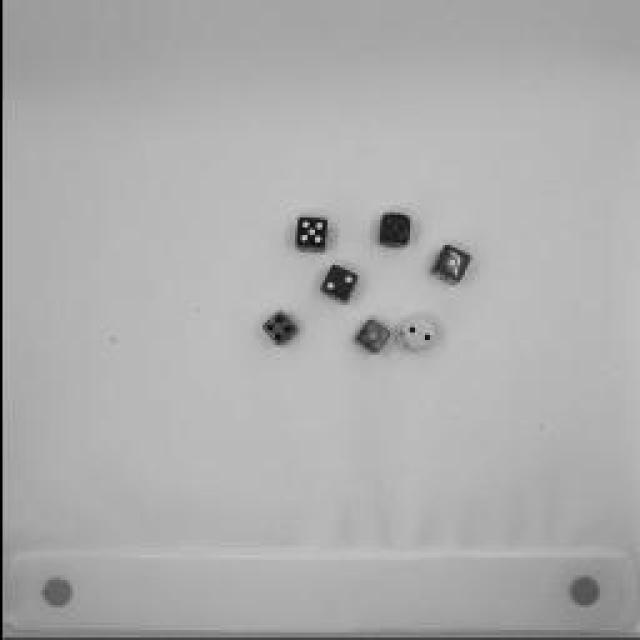dice_1: (423, 241, 475, 291), (350, 318, 390, 360)
dice_2: (315, 262, 360, 308), (391, 316, 439, 359)
dice_4: (252, 309, 300, 351)
dice_5: (290, 215, 330, 255), (375, 212, 410, 252)
